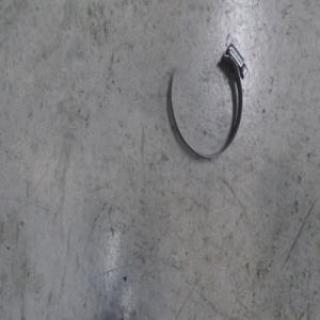AdjustableClamptrack_idkeyframe: (166, 38, 246, 164)
